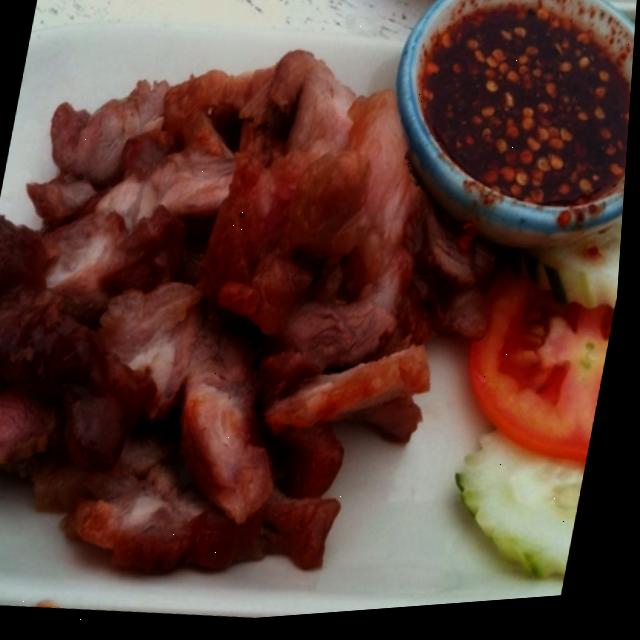猪肉菜式: (0, 12, 468, 608)
